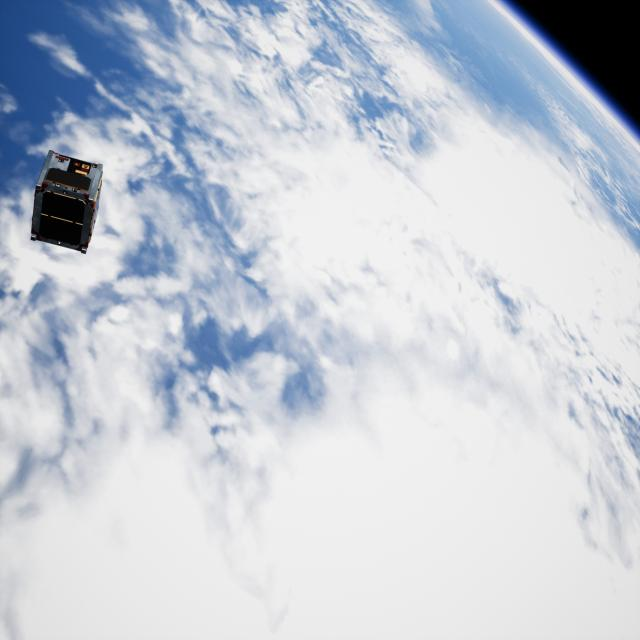satellite: (29, 147, 108, 256)
